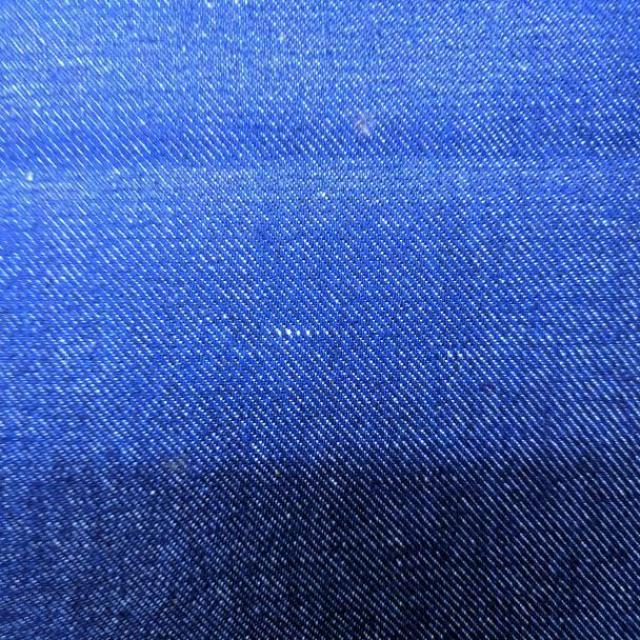Knot: (271, 326, 339, 342)
